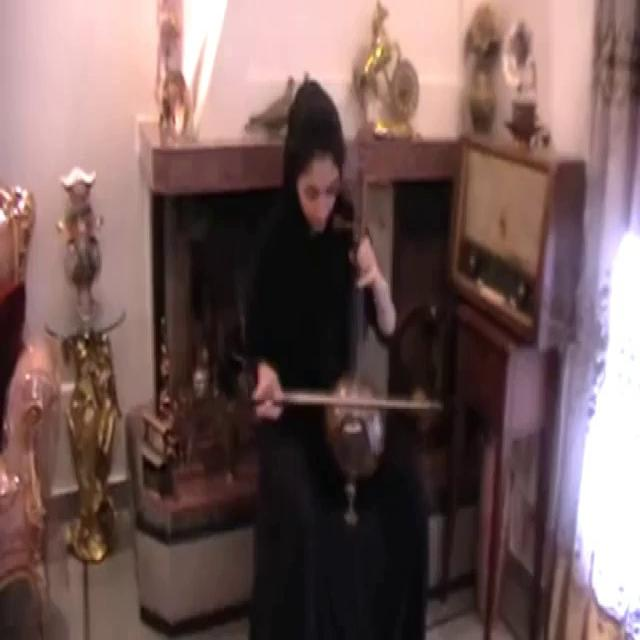Kamanche: (322, 105, 399, 517)
